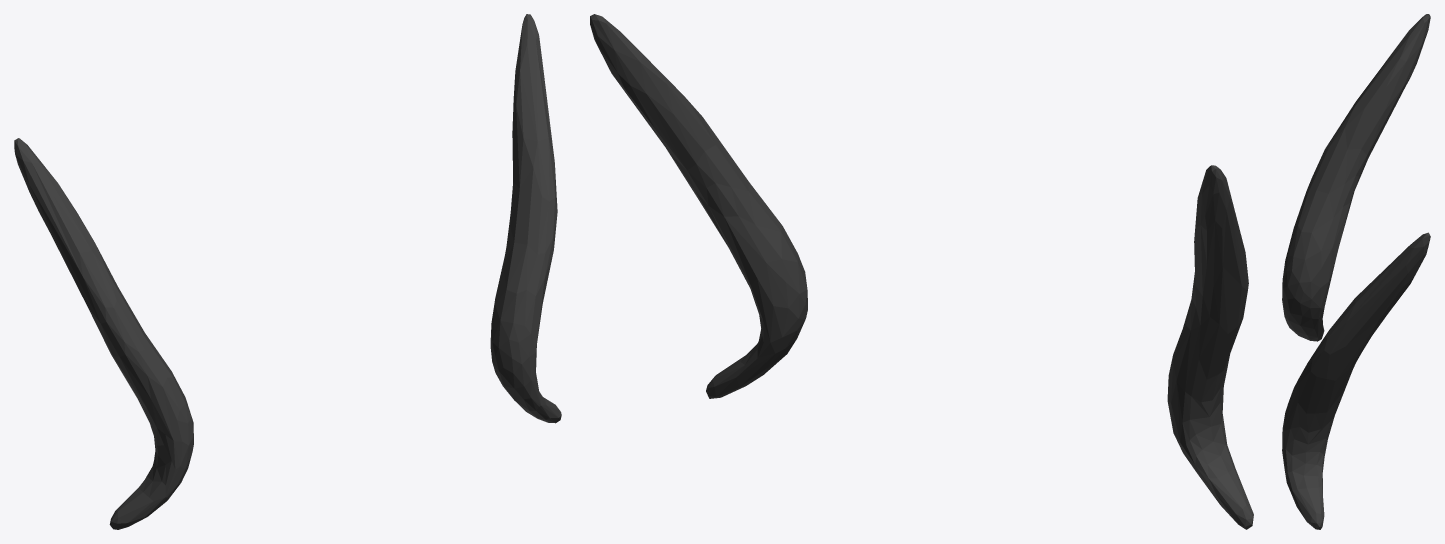
The model's file is m_coracobrachialis.glb.
3 views of the same model, side by side, from view 1: azimuth 30°, elevation 25°; view 2: azimuth 150°, elevation 25°; view 3: azimuth 270°, elevation 25° (orthographic). The views are drawn at different scales.
Visible parts, largest first — view 1: m_coracobrachialis; view 2: m_coracobrachialis; view 3: m_coracobrachialis.
Part boxes in pixels (x1,y1,x2,y2): m_coracobrachialis: [14, 14, 561, 529]; m_coracobrachialis: [590, 14, 1253, 529]; m_coracobrachialis: [1282, 14, 1430, 529].
Size of the model in its own units: 0.00324 by 0.0021 by 0.00091.
Materials: 1 (1 with a texture image).
